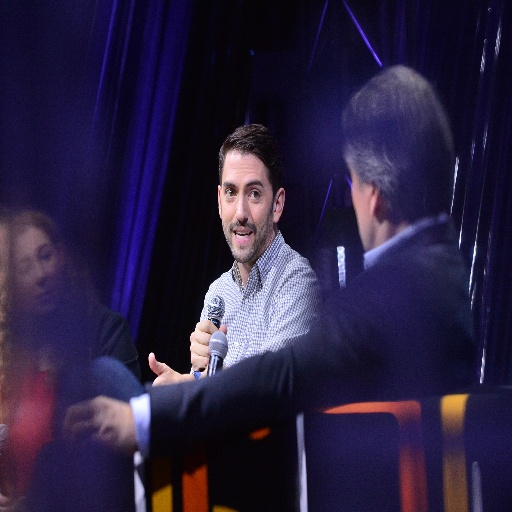hand: (60, 392, 135, 455), (147, 349, 186, 389), (186, 322, 214, 369), (0, 465, 18, 511), (195, 364, 226, 381)
